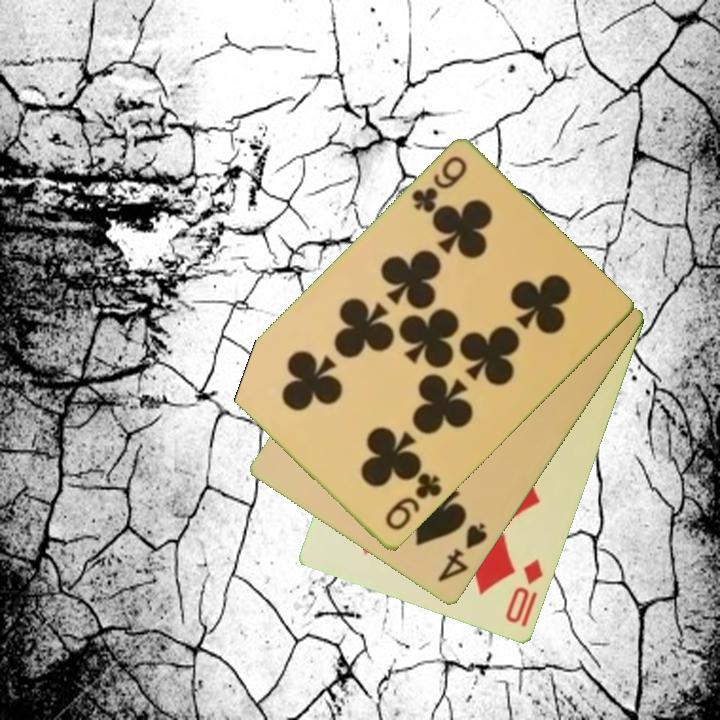10d: (502, 556, 547, 631)
4s: (434, 519, 491, 586)
9c: (381, 469, 445, 534), (408, 153, 470, 217)
